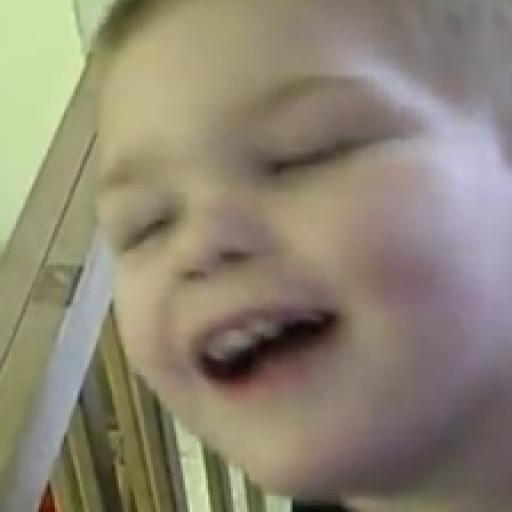Autism: (83, 9, 512, 512)
